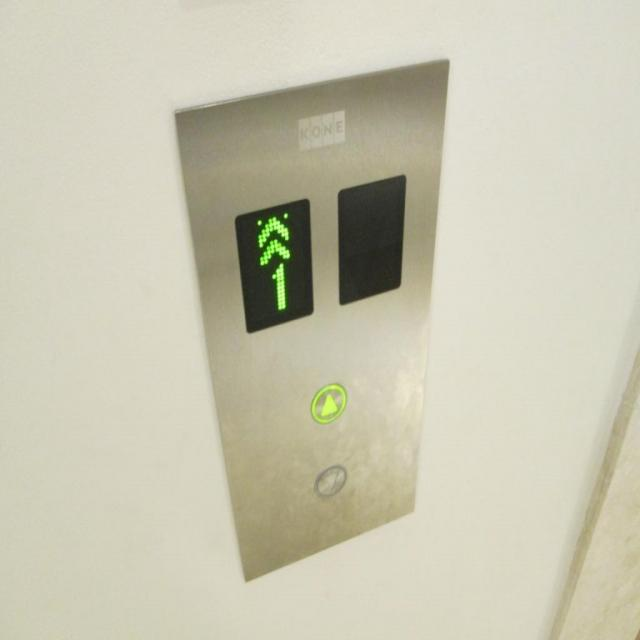down: (313, 463, 347, 501)
led: (233, 192, 316, 336), (335, 169, 407, 308)
up: (309, 382, 347, 426)
